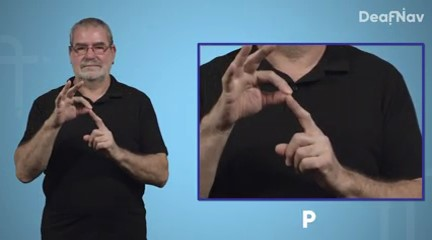P: (219, 45, 341, 185), (53, 75, 115, 158)
